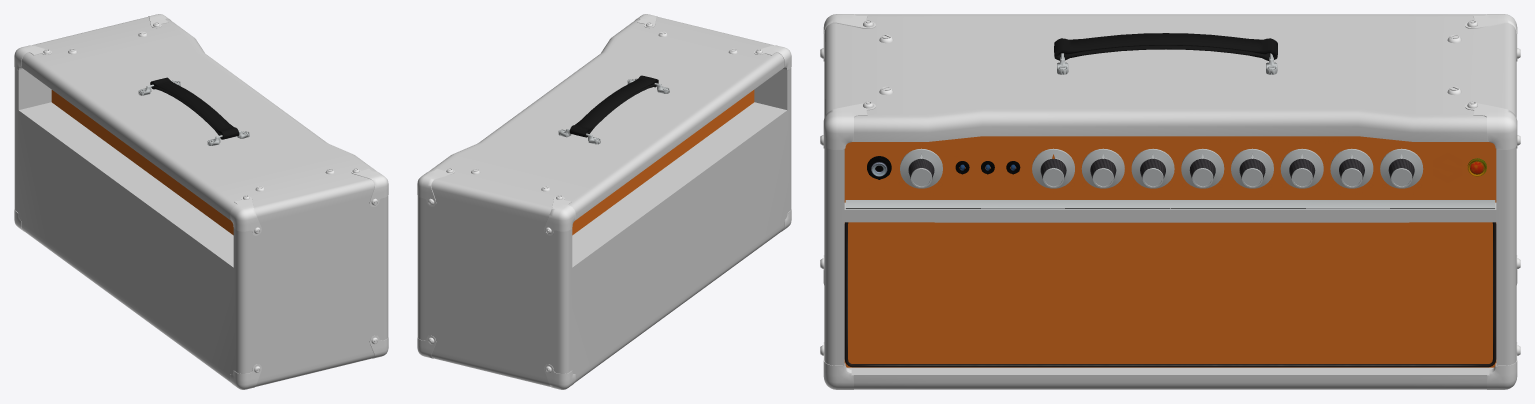
File: GuitarAmp.glb
3 renders of one model, left to right at view 1: azimuth 30°, elevation 25°; view 2: azimuth 150°, elevation 25°; view 3: azimuth 270°, elevation 25°, orthographic. The views are drawn at different scales.
Visible parts, largest first — view 1: stands_copy_low; view 2: stands_copy_low; view 3: stands_copy_low, Knob4, Knob5, Knob7, Knob8, Knob3, Knob9, Knob1, Knob6, Knob2.
Boxes of the visible parts, x1,y1,x2,y2 form: stands_copy_low: (14, 14, 388, 389); stands_copy_low: (417, 14, 791, 389); stands_copy_low: (820, 14, 1520, 389); Knob4: (1131, 148, 1174, 188); Knob5: (1181, 148, 1224, 188); Knob7: (1280, 148, 1323, 188); Knob8: (1330, 148, 1373, 188); Knob3: (1081, 148, 1124, 188); Knob9: (1380, 148, 1423, 188); Knob1: (900, 148, 942, 188); Knob6: (1231, 148, 1273, 188); Knob2: (1032, 148, 1074, 188).
Bounding box in the file's own units: 183 × 227 × 468.
Materials: 12 (10 with a texture image).
